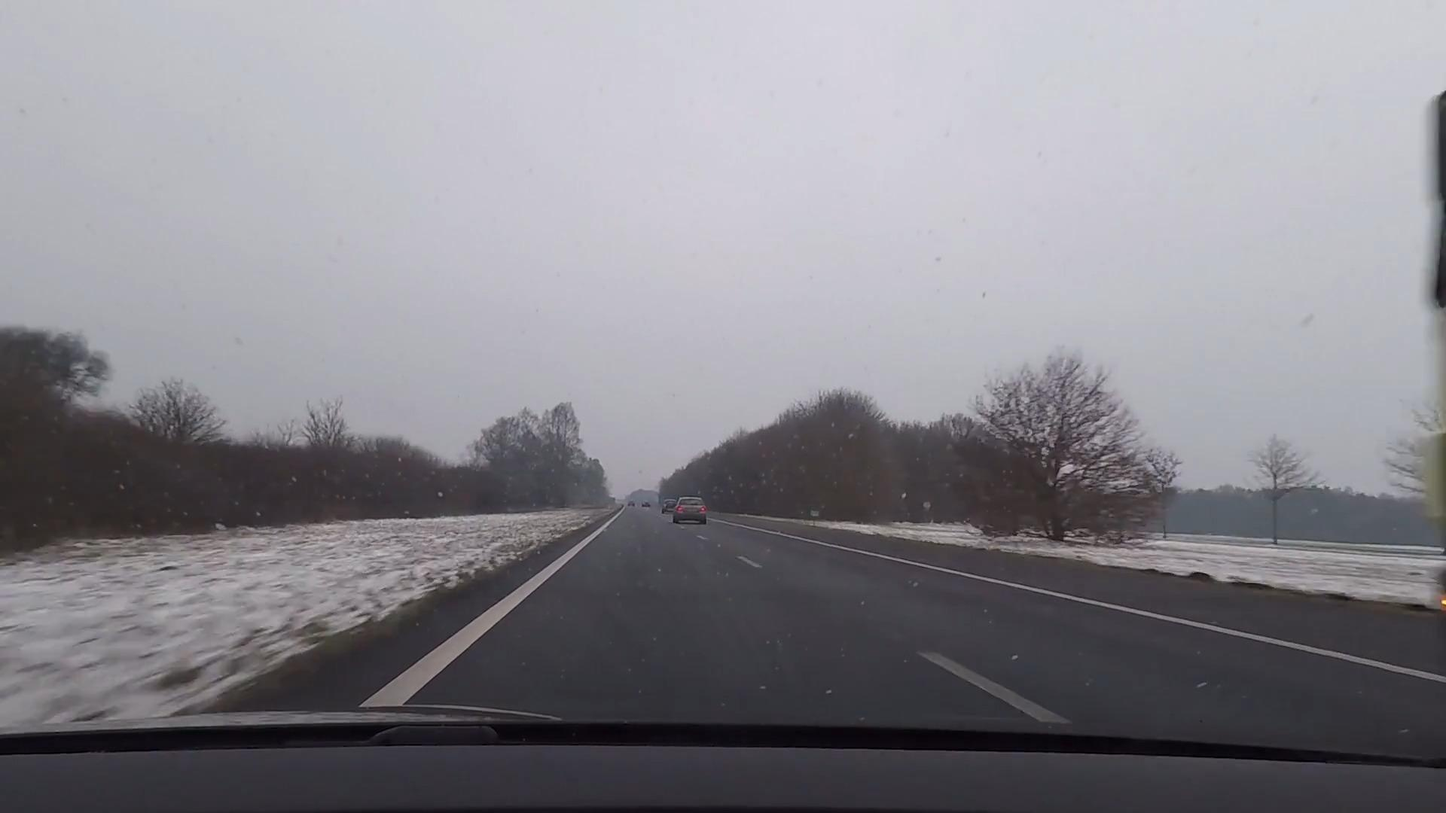Snow: (0, 508, 614, 734), (755, 515, 1445, 610)
dry: (360, 502, 1445, 758)
